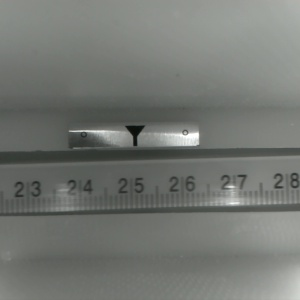2: (65, 179, 77, 195), (13, 181, 25, 197), (220, 175, 232, 190), (167, 176, 178, 192), (273, 173, 284, 189), (117, 178, 127, 193)
3: (30, 181, 41, 196)
4: (82, 179, 93, 194)
5: (134, 177, 143, 193)
6: (184, 175, 195, 192)
7: (236, 174, 247, 189)
8: (289, 171, 299, 188)
finger: (122, 125, 145, 147)
